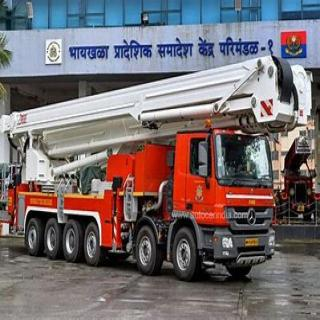Fire_truck: (0, 54, 314, 282)
